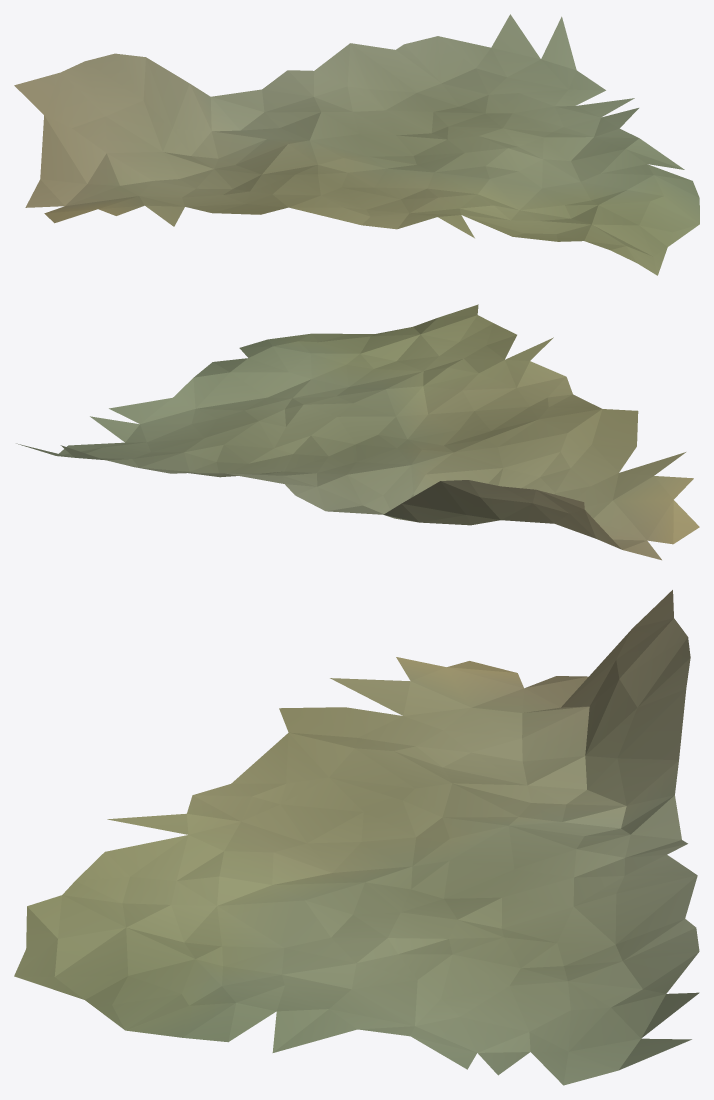
The picture shows the model from 3 angles, top to bottom: view 1: azimuth 30°, elevation 25°; view 2: azimuth 150°, elevation 25°; view 3: azimuth 270°, elevation 25°; orthographic projection. The views are drawn at different scales.
Visible parts, largest first — view 1: 恒河平原; view 2: 恒河平原; view 3: 恒河平原.
Part boxes in pixels (<box>): 恒河平原: <box>14,14,699,275</box>; 恒河平原: <box>16,304,699,560</box>; 恒河平原: <box>14,590,699,1085</box>.
Size of the model in its own units: 10.74 by 1.91 by 8.21.
